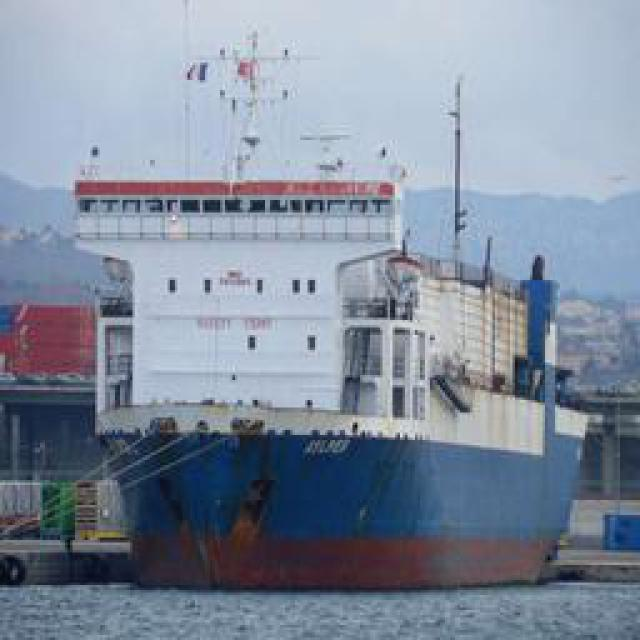Ship: (50, 68, 593, 596)
